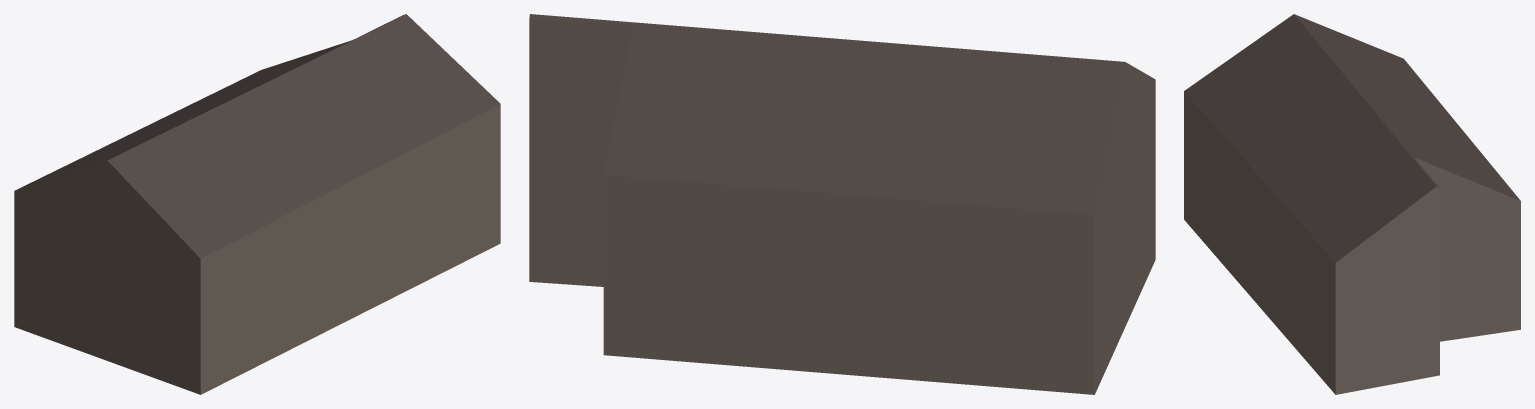
The picture shows the model from 3 angles, left to right: view 1: azimuth 30°, elevation 25°; view 2: azimuth 150°, elevation 25°; view 3: azimuth 270°, elevation 25°; orthographic projection. The views are drawn at different scales.
Parts seen in each view (by area): view 1: HP-w1198667808; view 2: HP-w1198667808; view 3: HP-w1198667808.
Part boxes in pixels (<box>): HP-w1198667808: <box>14,14,500,394</box>; HP-w1198667808: <box>529,14,1155,394</box>; HP-w1198667808: <box>1184,14,1520,394</box>.
Bounding box in the file's own units: 31.18 × 13.26 × 21.37.
